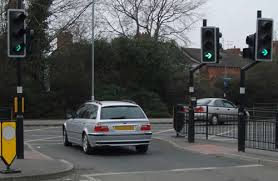signal: (7, 9, 25, 56), (256, 19, 271, 61), (201, 27, 216, 63)
